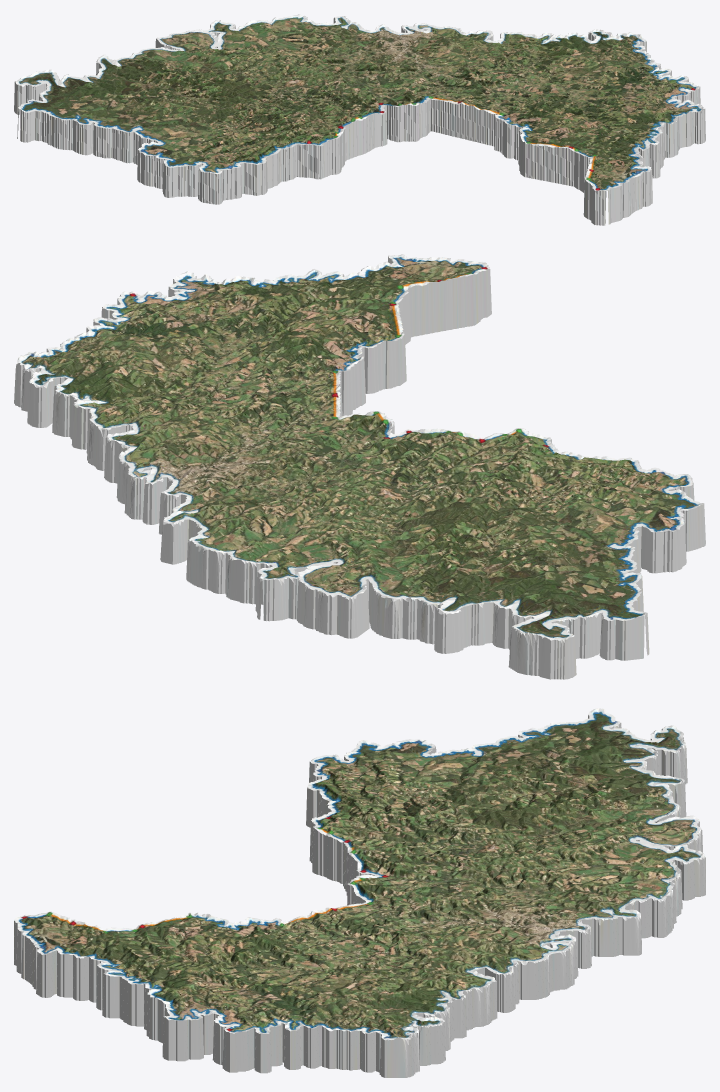
3 views of the same model, one above another, from view 1: azimuth 30°, elevation 25°; view 2: azimuth 150°, elevation 25°; view 3: azimuth 270°, elevation 25° (orthographic). The views are drawn at different scales.
Bounding box in the file's own units: 0.9969 × 0.0662 × 0.8813.
1 material, 1 textured.
